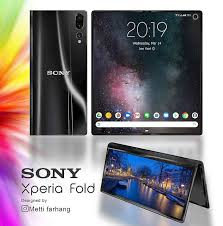sony: (27, 7, 90, 136)
